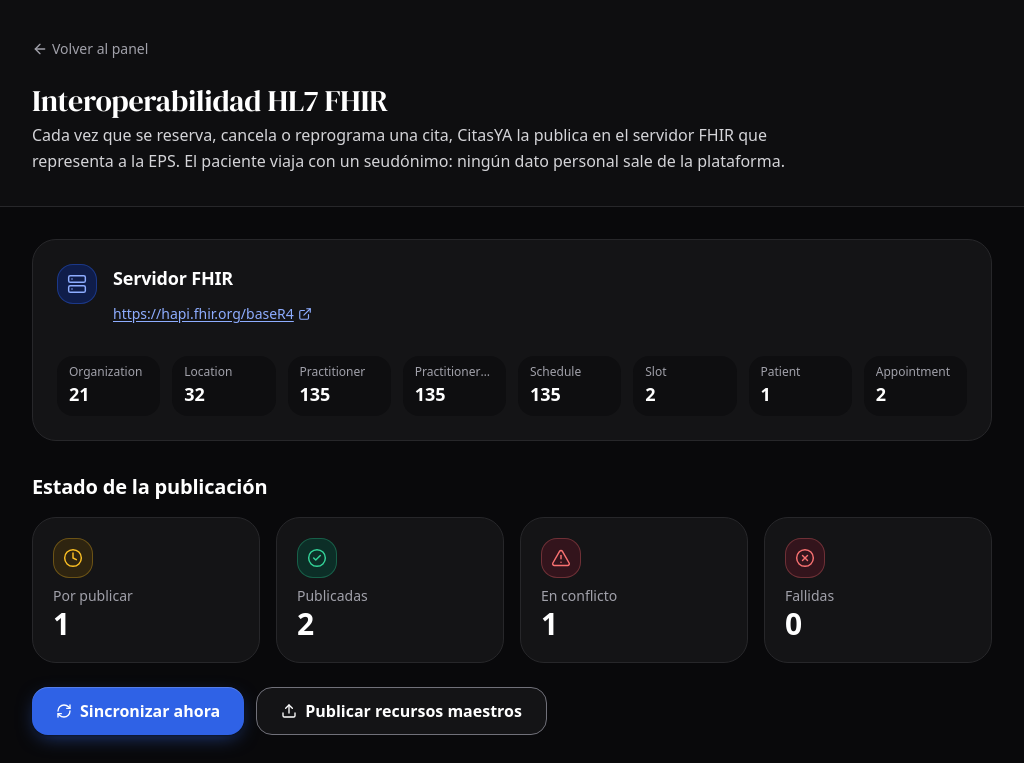
Test case: AdminFhirPage (ADR-0009) › «Sincronizar ahora» publica, avisa el resultado y recarga el resumen
Click the button "Sincronizar ahora".
click(138, 711)  # box [32,687,244,735]
(page scrolled)
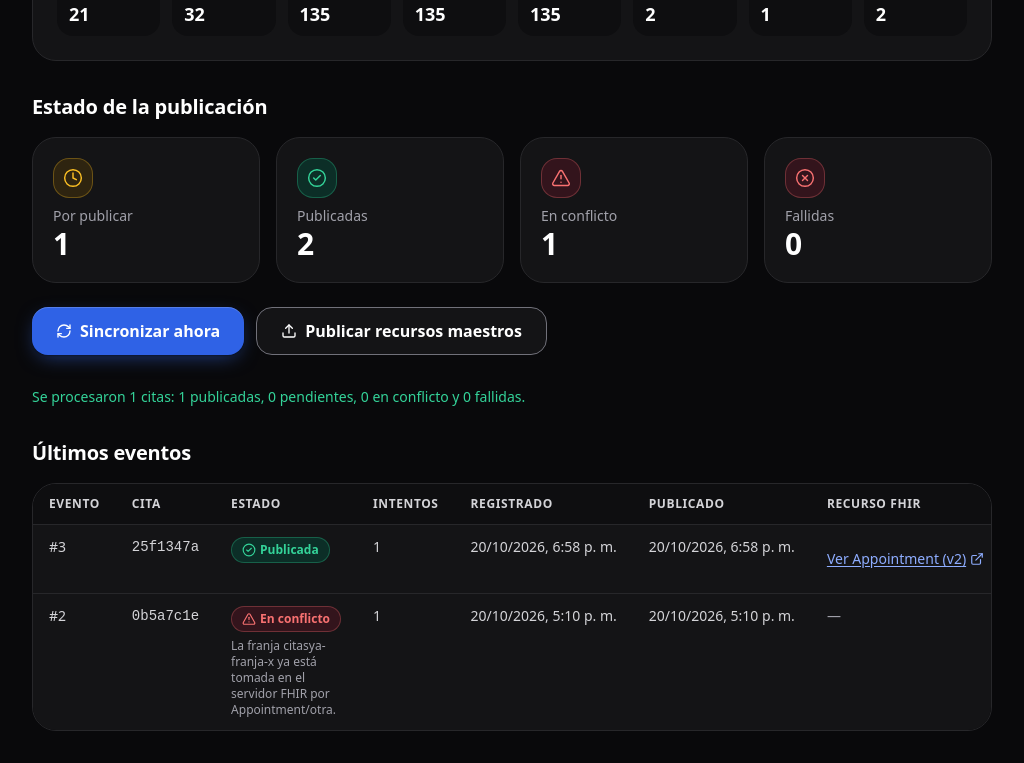
Now the message shows "Se procesaron 1 citas: 1 publicadas", box [32,387,525,406]
